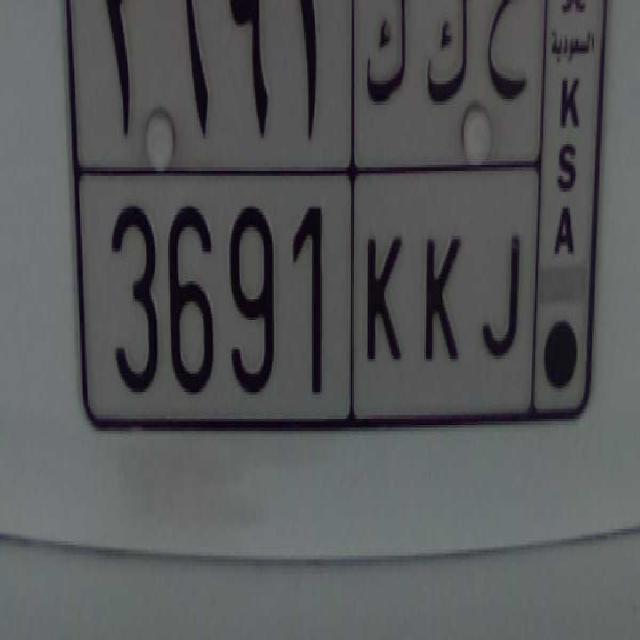license_plate: (78, 167, 534, 446)
